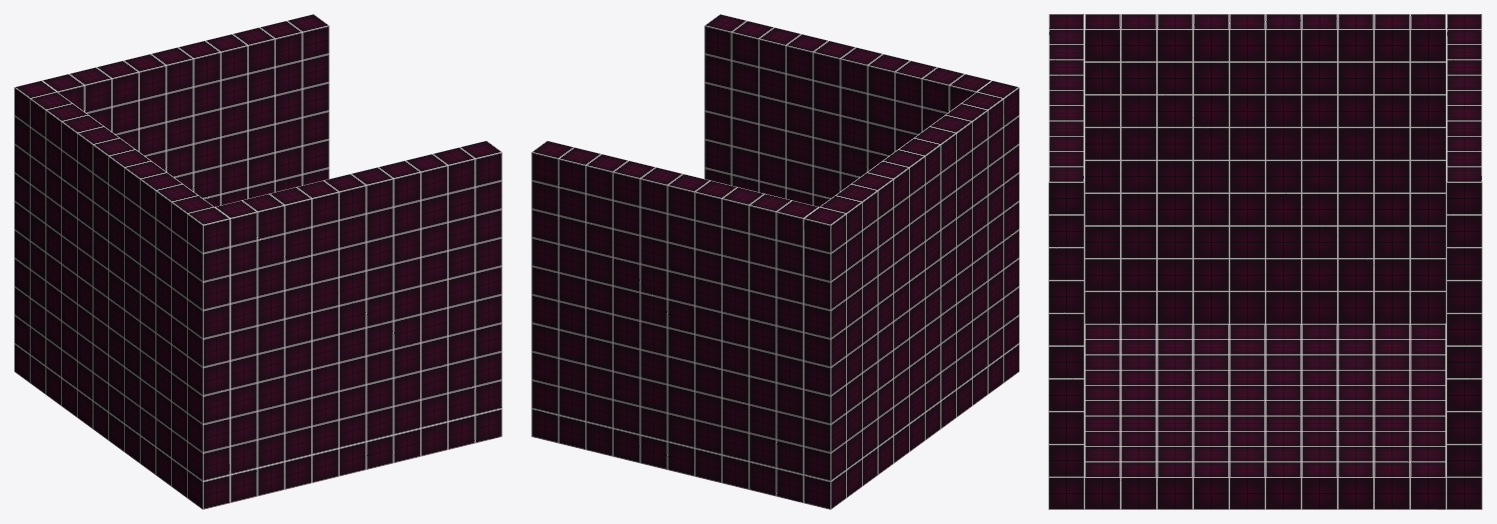
File: spawnPlatform.fbx
3 views of the same model, side by side, from view 1: azimuth 30°, elevation 25°; view 2: azimuth 150°, elevation 25°; view 3: azimuth 270°, elevation 25° (orthographic). The views are drawn at different scales.
Visible parts, largest first — view 1: SpawnPlatform; view 2: SpawnPlatform; view 3: SpawnPlatform.
Part boxes in pixels (x1,y1,x2,y2): SpawnPlatform: (14, 14, 502, 509); SpawnPlatform: (531, 14, 1019, 509); SpawnPlatform: (1048, 14, 1482, 509).
Bounding box in the file's own units: 1100 × 1000 × 1200.
